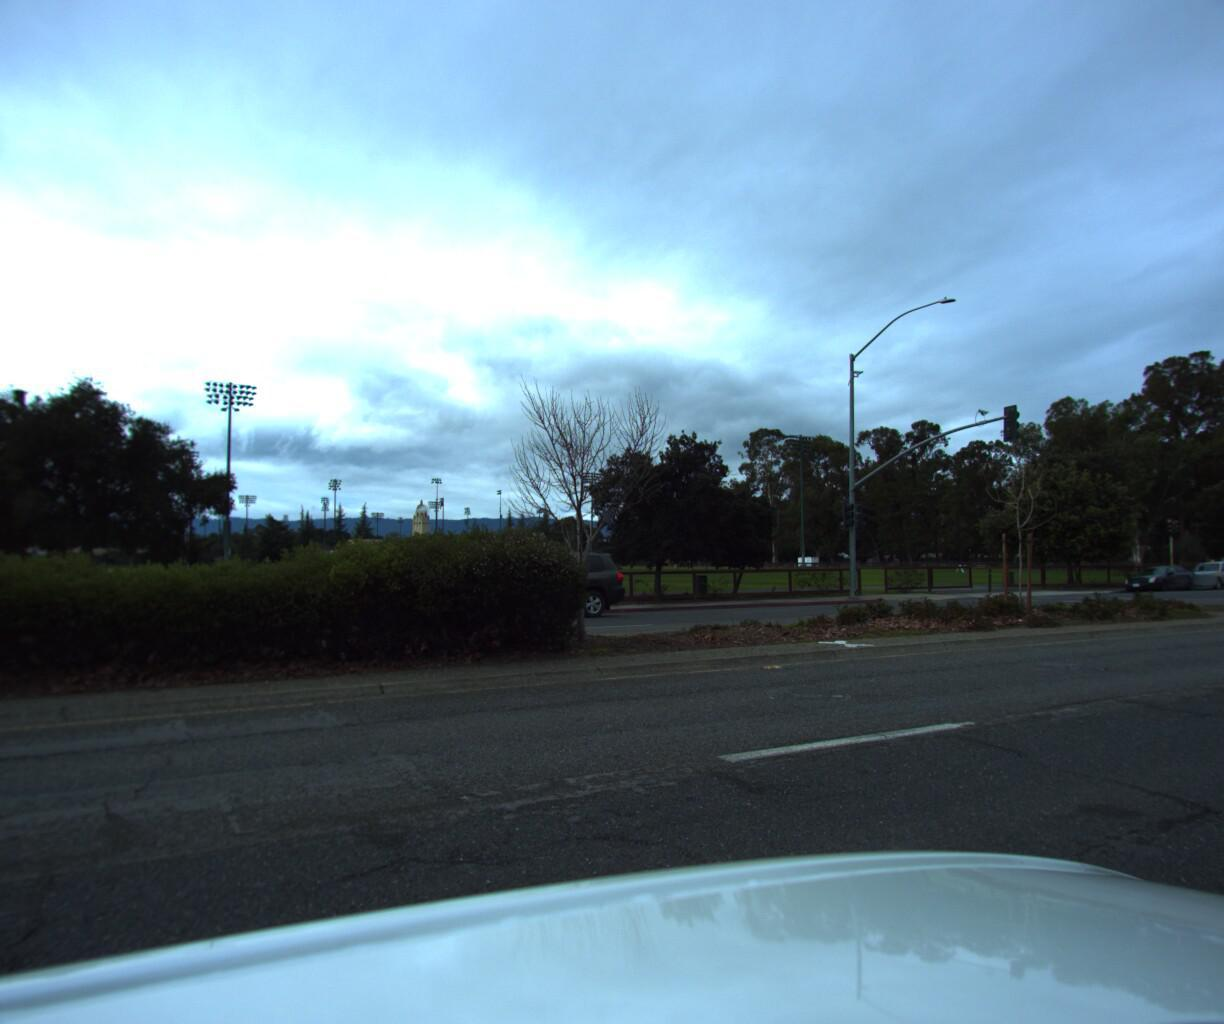car: (429, 543, 622, 620), (1110, 558, 1196, 590), (1163, 552, 1224, 587)
